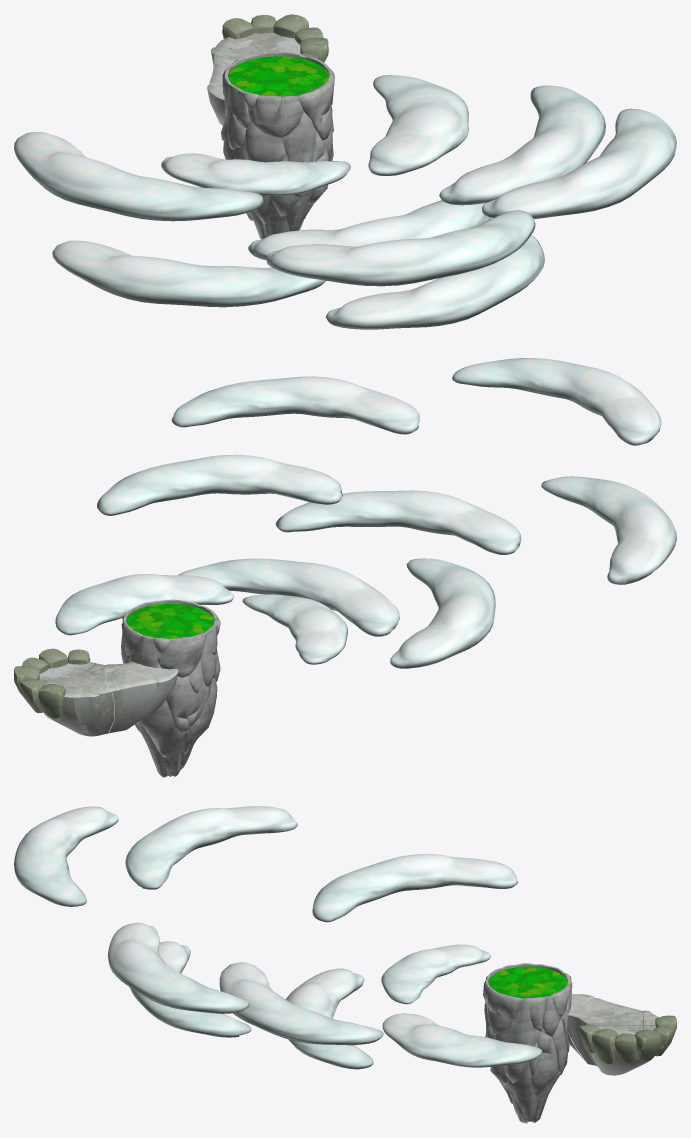
The model's file is BossJugemPlanet.obj.
3 renders of one model, top to bottom at view 1: azimuth 30°, elevation 25°; view 2: azimuth 150°, elevation 25°; view 3: azimuth 270°, elevation 25°, orthographic. The views are drawn at different scales.
Parts seen in each view (by area): view 1: BossJugemPlanet.003_meshId3_name.001, BossJugemPlanetCloud.009_meshId8_name, BossJugemPlanetCloud.005_meshId4_name, BossJugemPlanetCloud.007_meshId6_name, BossJugemPlanetCloud.008_meshId7_name, BossJugemPlanetCloud.003_meshId2_name, BossJugemPlanetCloud.006_meshId5_name, BossJugemPlanetCloud.001_meshId0_name, BossJugemPlanetCloud.004_meshId3_name, BossJugemPlanetCloud.002_meshId1_name, BossJugemPlanet.002_meshId2_name.001, BossJugemPlanet.001_meshId1_name.001 (+1 smaller); view 2: BossJugemPlanet.003_meshId3_name.001, BossJugemPlanetCloud.008_meshId7_name, BossJugemPlanetCloud.006_meshId5_name, BossJugemPlanetCloud.003_meshId2_name, BossJugemPlanetCloud.009_meshId8_name, BossJugemPlanetCloud.002_meshId1_name, BossJugemPlanet.001_meshId1_name.001, BossJugemPlanetCloud.007_meshId6_name, BossJugemPlanetCloud.005_meshId4_name, BossJugemPlanetCloud.001_meshId0_name, BossJugemPlanetCloud.004_meshId3_name, BossJugemPlanet_meshId0_name.001 (+1 smaller); view 3: BossJugemPlanet.003_meshId3_name.001, BossJugemPlanetCloud.005_meshId4_name, BossJugemPlanetCloud.007_meshId6_name, BossJugemPlanetCloud.008_meshId7_name, BossJugemPlanetCloud.009_meshId8_name, BossJugemPlanetCloud.006_meshId5_name, BossJugemPlanetCloud.001_meshId0_name, BossJugemPlanetCloud.002_meshId1_name, BossJugemPlanet.001_meshId1_name.001, BossJugemPlanetCloud.004_meshId3_name, BossJugemPlanetCloud.003_meshId2_name, BossJugemPlanet_meshId0_name.001 (+1 smaller).
Boxes of the visible parts, bbox=[...] form: BossJugemPlanet.003_meshId3_name.001: bbox=[221, 51, 334, 239]; BossJugemPlanetCloud.009_meshId8_name: bbox=[266, 210, 535, 286]; BossJugemPlanetCloud.005_meshId4_name: bbox=[14, 131, 263, 221]; BossJugemPlanetCloud.007_meshId6_name: bbox=[52, 240, 326, 307]; BossJugemPlanetCloud.008_meshId7_name: bbox=[482, 108, 676, 219]; BossJugemPlanetCloud.003_meshId2_name: bbox=[326, 235, 544, 329]; BossJugemPlanetCloud.006_meshId5_name: bbox=[439, 85, 605, 205]; BossJugemPlanetCloud.001_meshId0_name: bbox=[368, 75, 468, 175]; BossJugemPlanetCloud.004_meshId3_name: bbox=[161, 153, 350, 195]; BossJugemPlanetCloud.002_meshId1_name: bbox=[248, 200, 490, 260]; BossJugemPlanet.002_meshId2_name.001: bbox=[228, 56, 329, 96]; BossJugemPlanet.001_meshId1_name.001: bbox=[207, 32, 300, 125]; BossJugemPlanet.003_meshId3_name.001: bbox=[121, 599, 220, 777]; BossJugemPlanetCloud.008_meshId7_name: bbox=[171, 376, 419, 434]; BossJugemPlanetCloud.006_meshId5_name: bbox=[97, 454, 342, 515]; BossJugemPlanetCloud.003_meshId2_name: bbox=[275, 490, 521, 554]; BossJugemPlanetCloud.009_meshId8_name: bbox=[452, 358, 661, 445]; BossJugemPlanetCloud.002_meshId1_name: bbox=[178, 558, 399, 636]; BossJugemPlanet.001_meshId1_name.001: bbox=[39, 661, 177, 736]; BossJugemPlanetCloud.007_meshId6_name: bbox=[541, 476, 676, 584]; BossJugemPlanetCloud.005_meshId4_name: bbox=[390, 558, 495, 668]; BossJugemPlanetCloud.001_meshId0_name: bbox=[55, 574, 233, 635]; BossJugemPlanetCloud.004_meshId3_name: bbox=[242, 594, 347, 664]; BossJugemPlanet_meshId0_name.001: bbox=[14, 648, 143, 718]; BossJugemPlanet.003_meshId3_name.001: bbox=[483, 963, 572, 1123]; BossJugemPlanetCloud.005_meshId4_name: bbox=[312, 854, 517, 922]; BossJugemPlanetCloud.007_meshId6_name: bbox=[125, 806, 297, 889]; BossJugemPlanetCloud.008_meshId7_name: bbox=[108, 922, 249, 1013]; BossJugemPlanetCloud.009_meshId8_name: bbox=[14, 806, 118, 906]; BossJugemPlanetCloud.006_meshId5_name: bbox=[219, 962, 383, 1045]; BossJugemPlanetCloud.001_meshId0_name: bbox=[382, 1013, 542, 1067]; BossJugemPlanetCloud.002_meshId1_name: bbox=[285, 968, 373, 1069]; BossJugemPlanet.001_meshId1_name.001: bbox=[567, 994, 658, 1075]; BossJugemPlanetCloud.004_meshId3_name: bbox=[381, 944, 490, 1004]; BossJugemPlanetCloud.003_meshId2_name: bbox=[129, 941, 251, 1037]; BossJugemPlanet_meshId0_name.001: bbox=[579, 1002, 676, 1064].
Size of the model in its own units: 14146 by 6615 by 17908.
5 materials, 5 textured.
